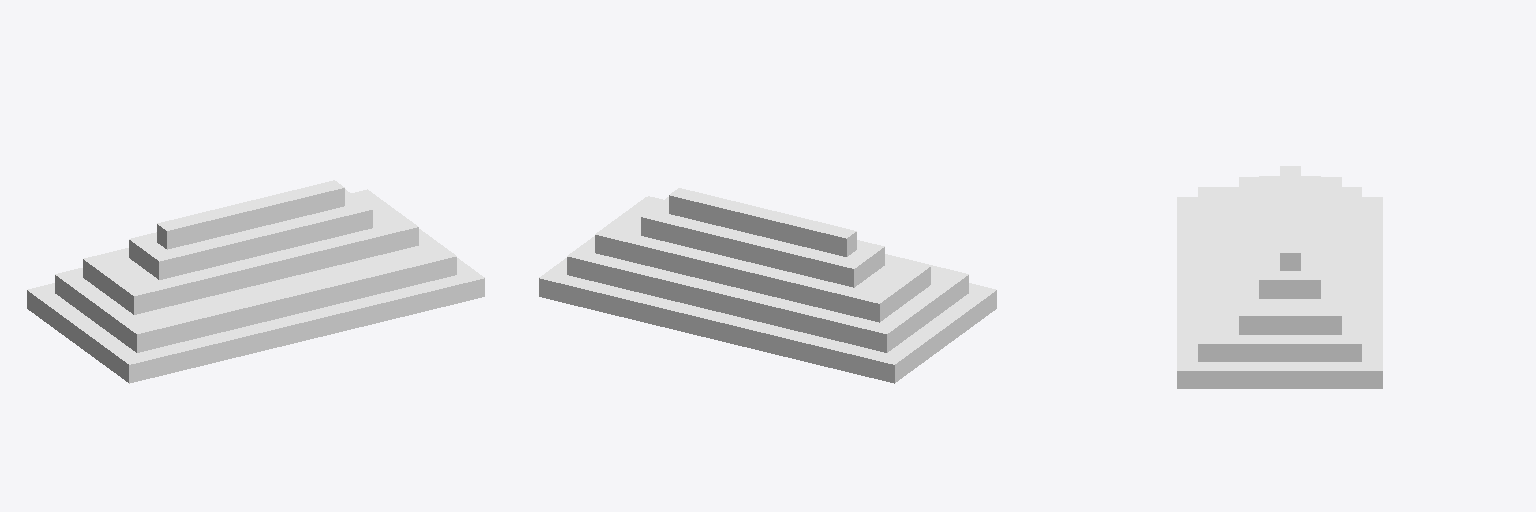
The model's file is chestTop.obj.
3 renders of one model, left to right at view 1: azimuth 30°, elevation 25°; view 2: azimuth 150°, elevation 25°; view 3: azimuth 270°, elevation 25°, orthographic.
Visible parts, largest first — view 1: chestTop; view 2: chestTop; view 3: chestTop.
Part boxes in pixels (x1,y1,x2,y2): chestTop: (27, 180, 484, 383); chestTop: (539, 188, 996, 383); chestTop: (1177, 166, 1382, 388).
Size of the model in its own units: 20 by 5 by 10.